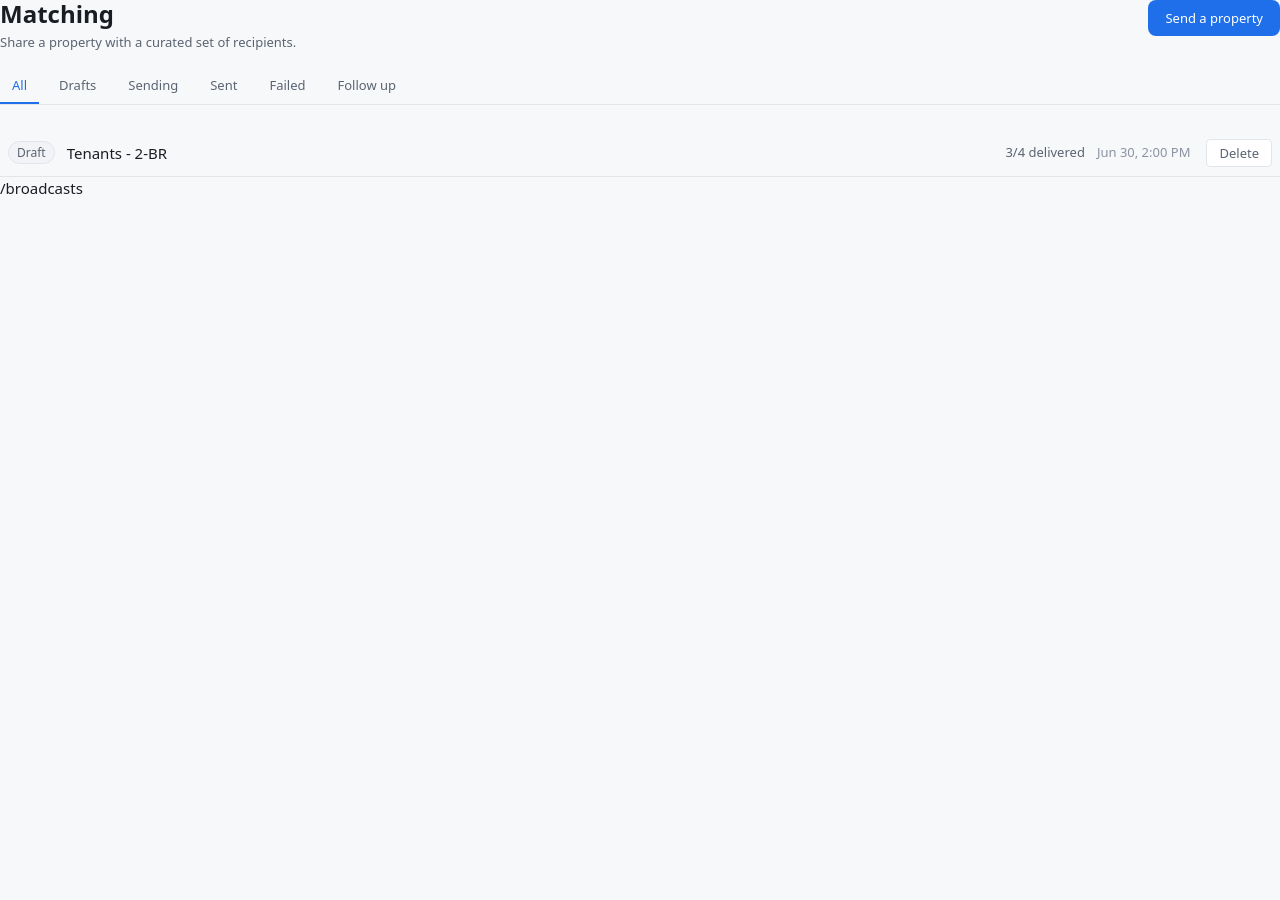
Test case: BroadcastsList — delete draft › explains a 409 (raced to sending) and refetches the list
This screenshot has width=1280, height=900.
expect the list named "Property sends" is shown: met, box [0, 129, 1279, 178]
Click the button with aria-label "Delete draft:" at [1239, 153], box [1206, 139, 1272, 167]
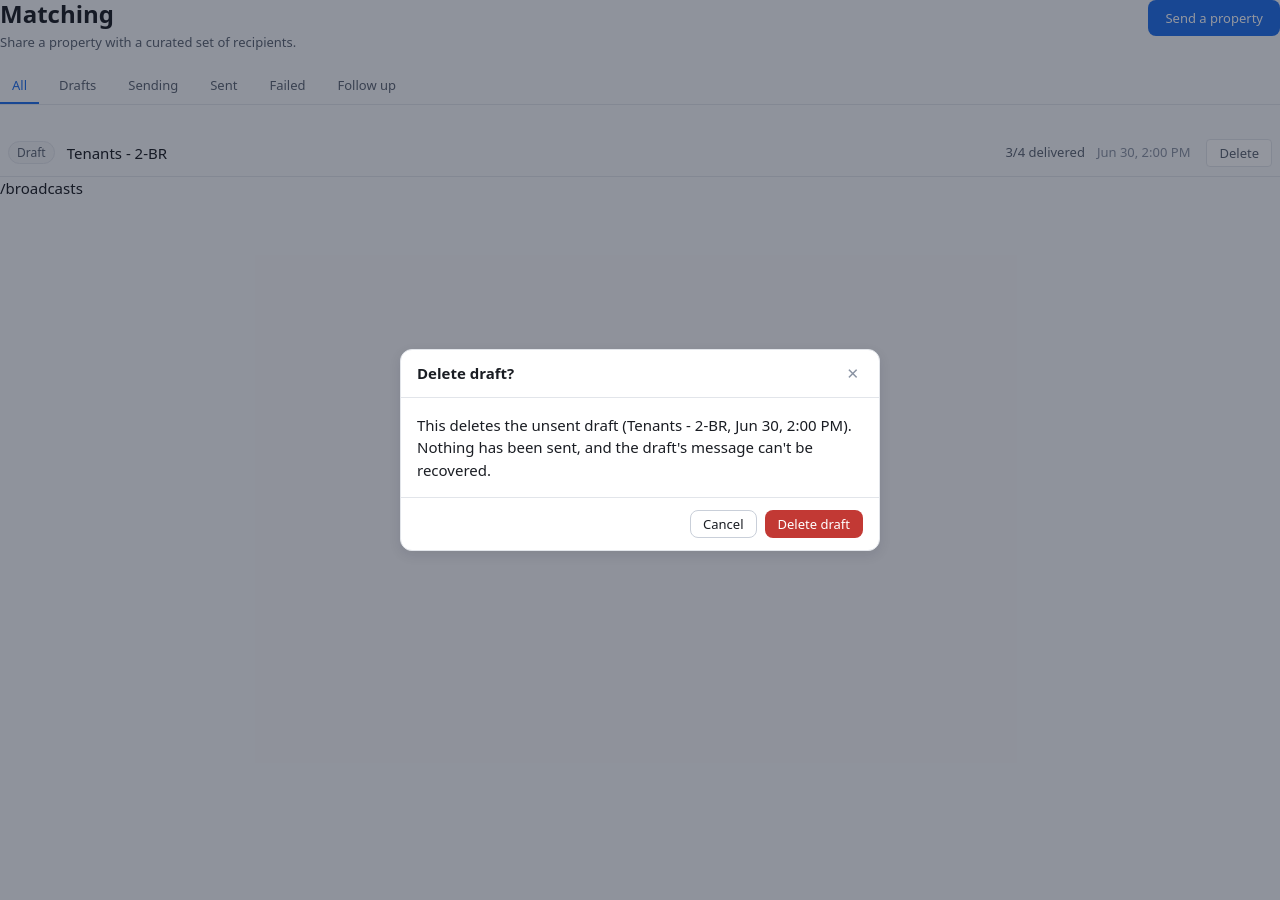
Click the button "Delete draft" at [814, 524], box [764, 510, 863, 538]
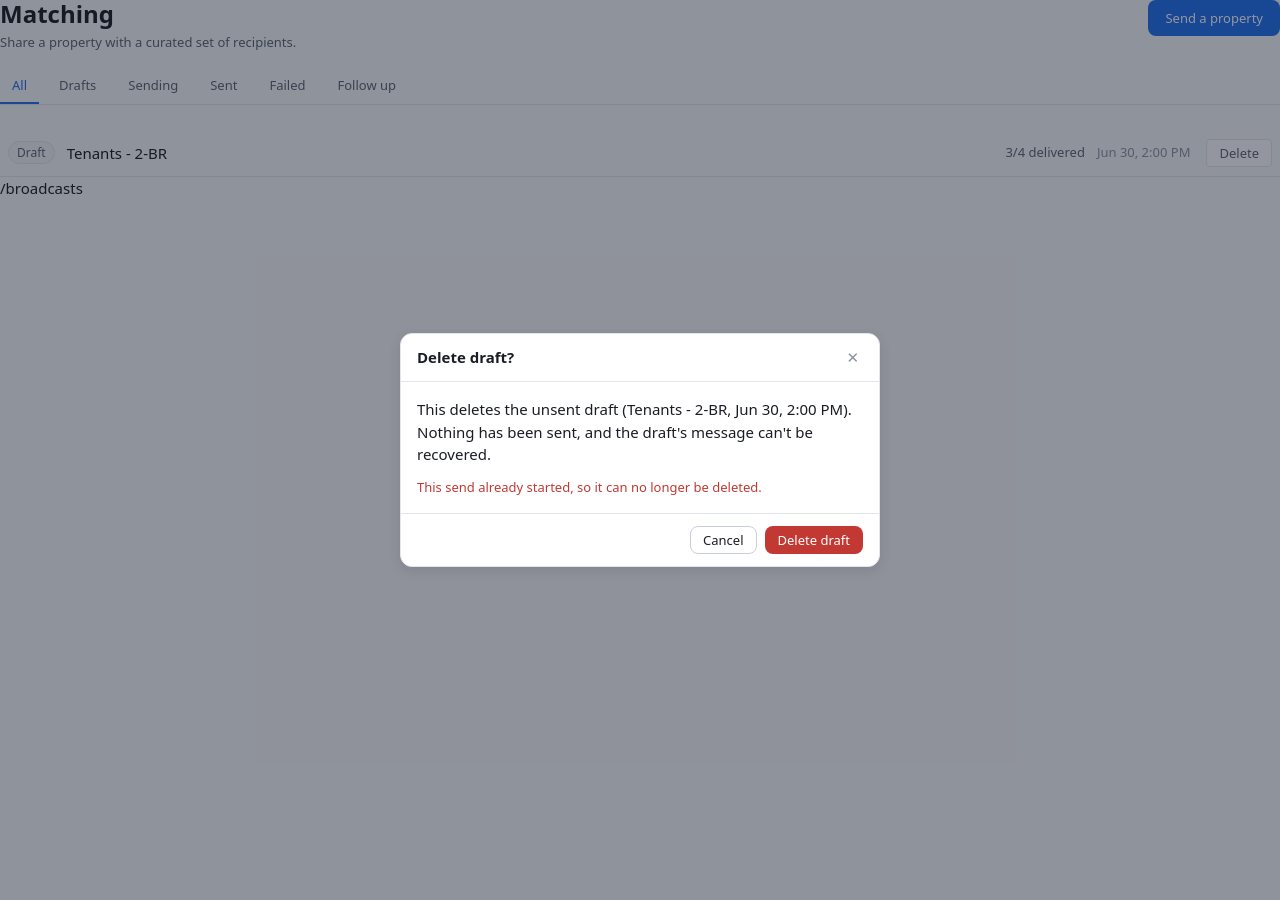
expect the text "This send already started, so it can no longer be deleted." is shown: met, box [417, 478, 762, 496]
